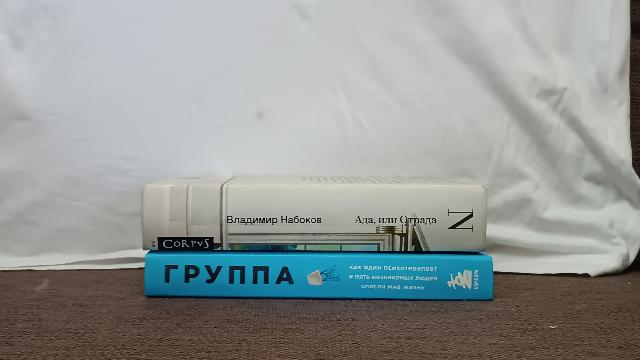book-s-spine: (143, 186, 486, 253), (145, 255, 492, 300)
